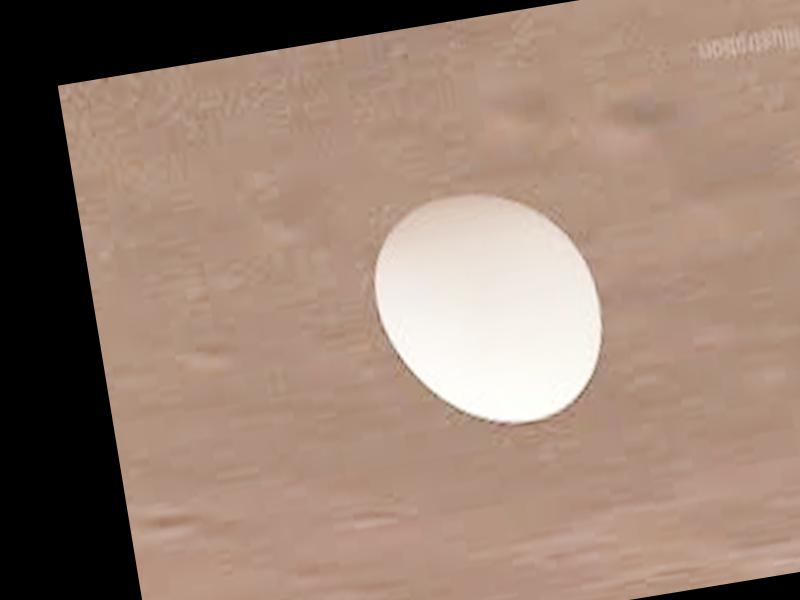Eggs: (360, 176, 616, 442)
